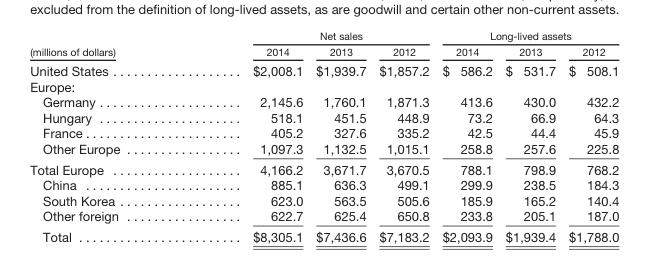table: (29, 29, 618, 244)
table column: (29, 29, 185, 244), (185, 29, 308, 244), (308, 29, 372, 244), (372, 29, 435, 244), (435, 29, 498, 244), (498, 29, 561, 244), (561, 29, 618, 244)
table column header: (29, 29, 618, 60)
table projected row header: (29, 78, 618, 94)
table row: (29, 207, 618, 226), (29, 60, 618, 78), (29, 140, 618, 158), (29, 158, 618, 176), (29, 226, 618, 244), (29, 43, 618, 60), (29, 78, 618, 94), (29, 109, 618, 125), (29, 176, 618, 192), (29, 94, 618, 109), (29, 125, 618, 140), (29, 192, 618, 207), (29, 29, 618, 43)
table spanning cell: (29, 29, 185, 60), (185, 29, 435, 43), (435, 29, 618, 43)
